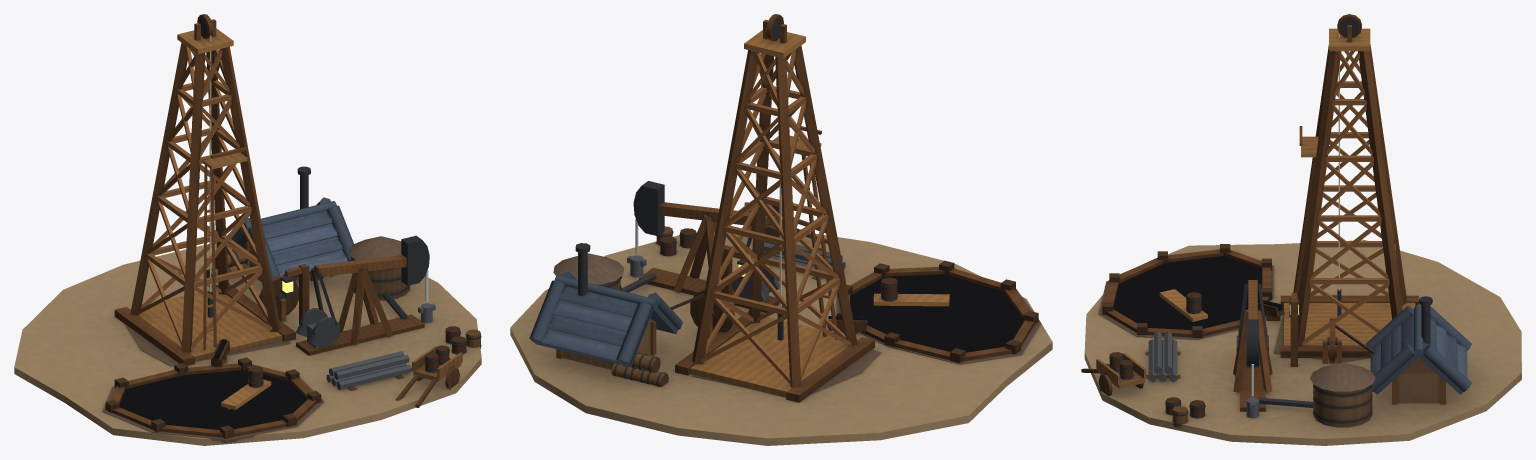
Rendered from oil_l1.glb.
The picture shows the model from 3 angles, left to right: view 1: azimuth 30°, elevation 25°; view 2: azimuth 150°, elevation 25°; view 3: azimuth 270°, elevation 25°; orthographic projection. The views are drawn at different scales.
Visible parts, largest first — view 1: oil_l1; view 2: oil_l1; view 3: oil_l1.
Boxes of the visible parts, box(x1,y1,x2,y2) form: oil_l1: box(14, 14, 481, 445); oil_l1: box(510, 14, 1052, 445); oil_l1: box(1081, 14, 1521, 445).
Size of the model in its own units: 1.36 by 1.03 by 1.27.
4 materials, 1 textured.
